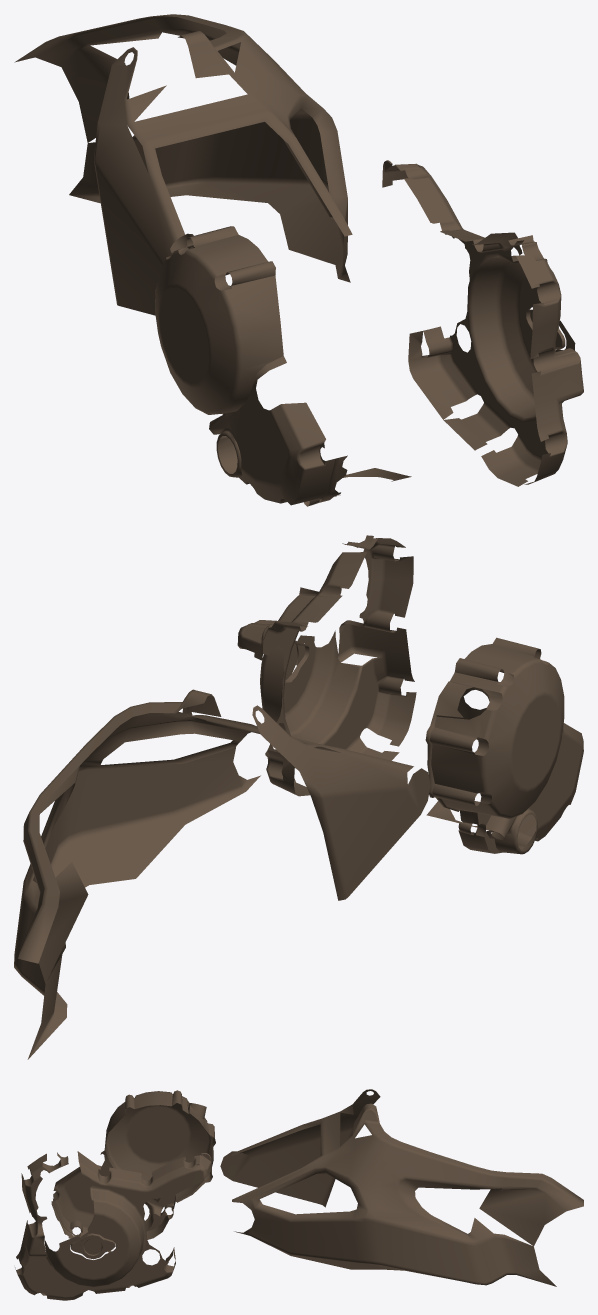
The model's file is Engine_Guard.glb.
The picture shows the model from 3 angles, top to bottom: view 1: azimuth 30°, elevation 25°; view 2: azimuth 150°, elevation 25°; view 3: azimuth 270°, elevation 25°; orthographic projection. The views are drawn at different scales.
Visible parts, largest first — view 1: EngineGuard; view 2: EngineGuard; view 3: EngineGuard.
Part boxes in pixels (x1=…): EngineGuard: x1=14, y1=14, x2=583, y2=506; EngineGuard: x1=14, y1=535, x2=583, y2=1059; EngineGuard: x1=15, y1=1089, x2=583, y2=1300.
Size of the model in its own units: 0.3632 by 0.3046 by 0.9141.
